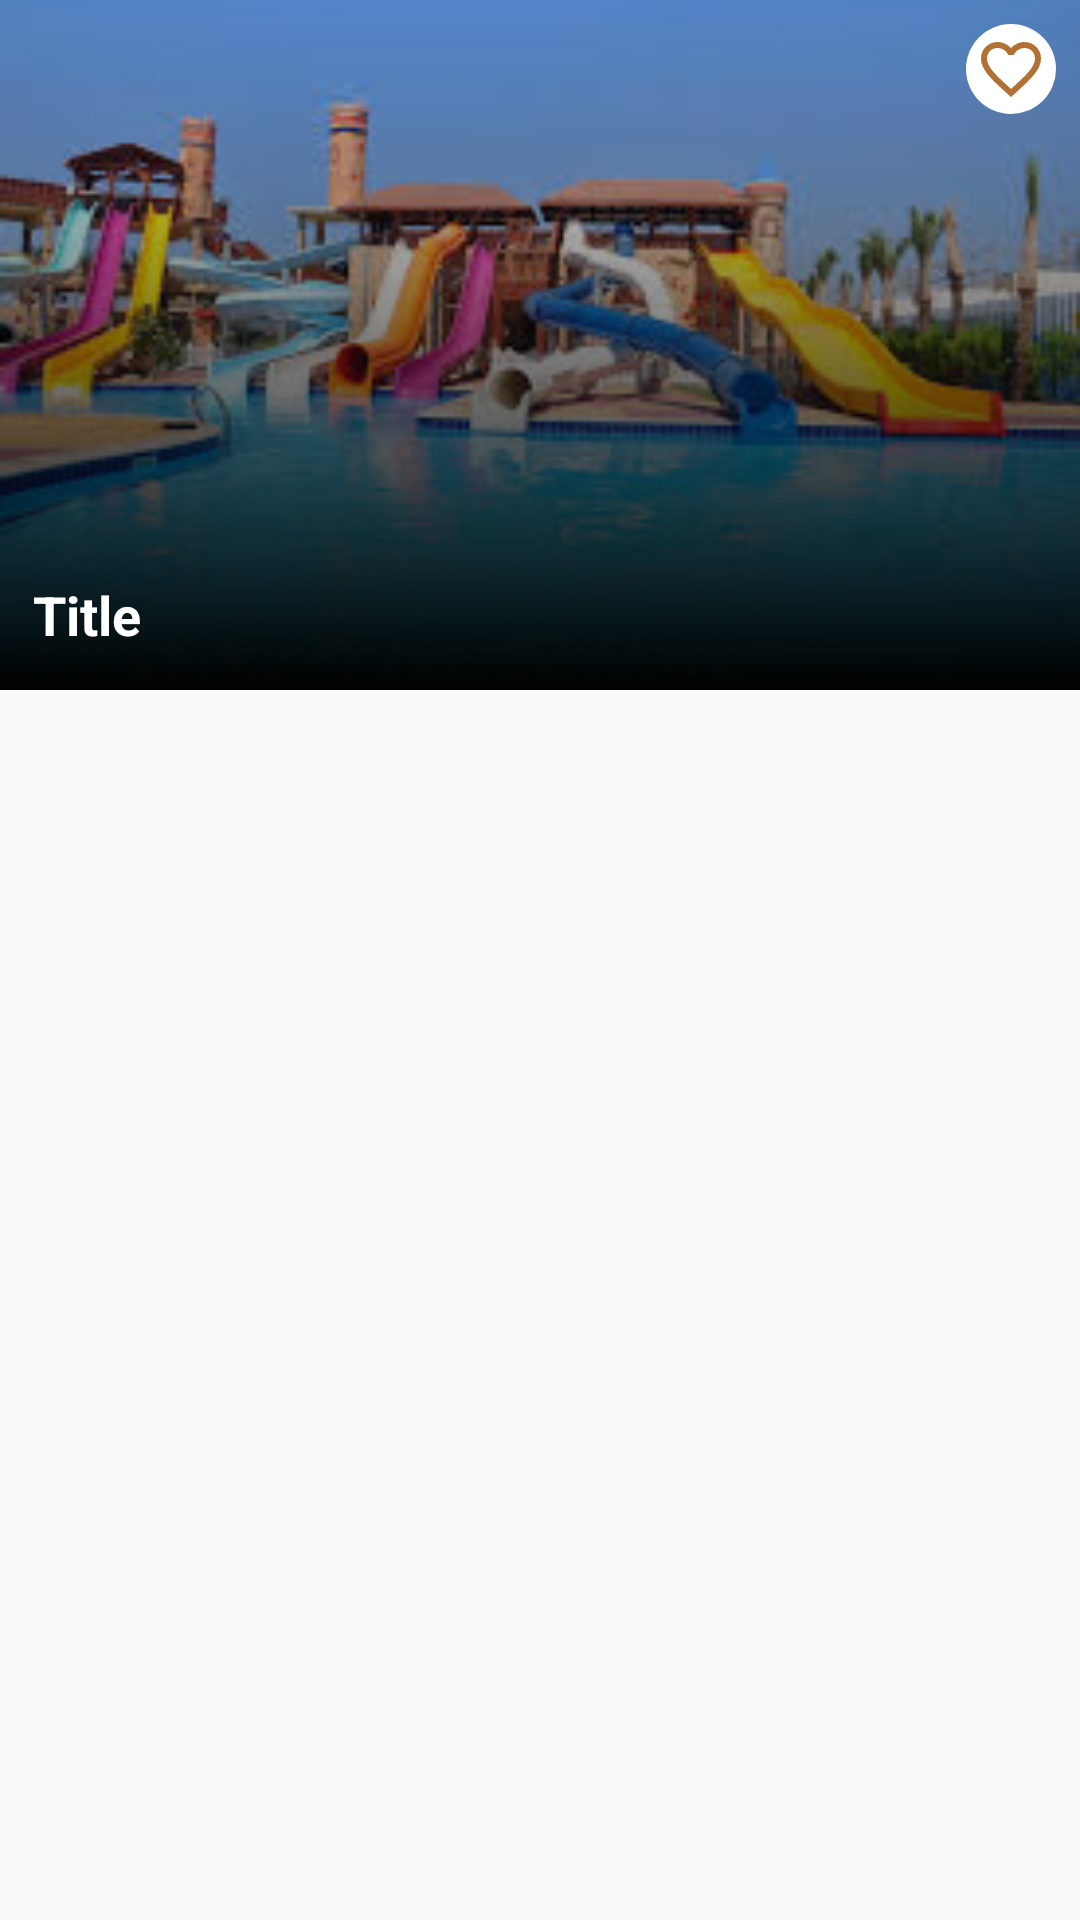

Where to tap for icons on this 1080px×1920px app screen, as [x,y]:
favoriton: [1011,69]
